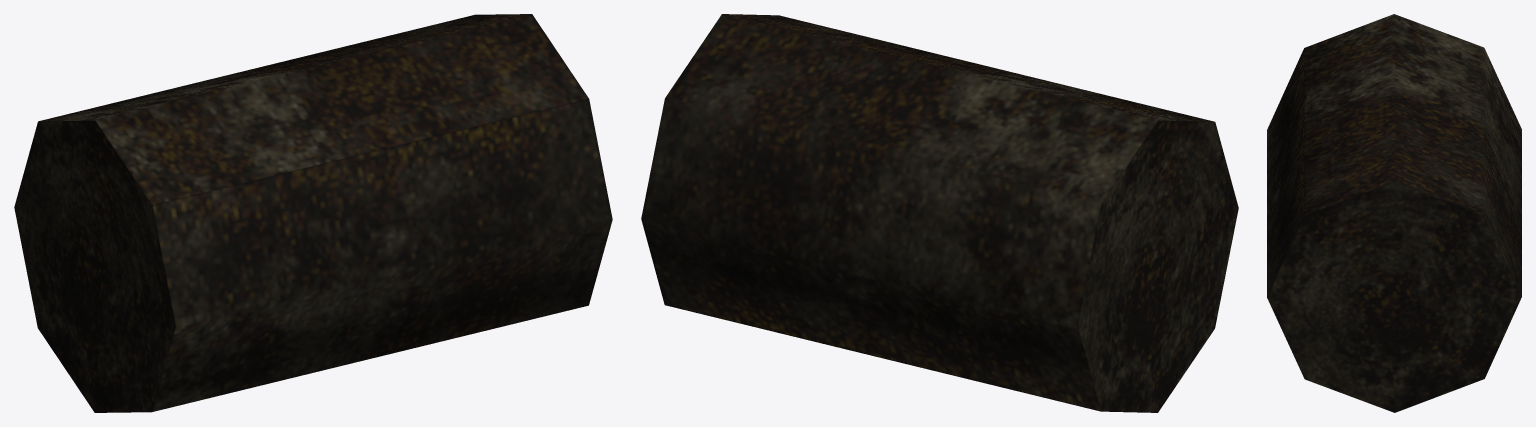
File: SM_EC_Horror_Hay_10.fbx
3 renders of one model, left to right at view 1: azimuth 30°, elevation 25°; view 2: azimuth 150°, elevation 25°; view 3: azimuth 270°, elevation 25°, orthographic. The views are drawn at different scales.
Visible parts, largest first — view 1: SM_EC_Horror_Hay_10; view 2: SM_EC_Horror_Hay_10; view 3: SM_EC_Horror_Hay_10.
Boxes of the visible parts, left/top/right/bottom form: SM_EC_Horror_Hay_10: left=14, top=14, right=612, bottom=412; SM_EC_Horror_Hay_10: left=641, top=14, right=1238, bottom=412; SM_EC_Horror_Hay_10: left=1267, top=14, right=1521, bottom=412.
Bounding box in the file's own units: 2.5 × 1.6 × 1.6.
